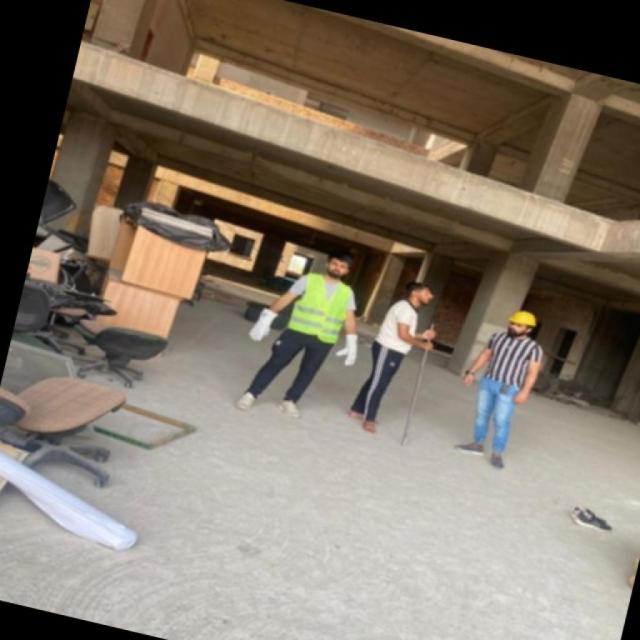Gloves-Detection: (248, 305, 271, 345), (341, 330, 357, 369)
